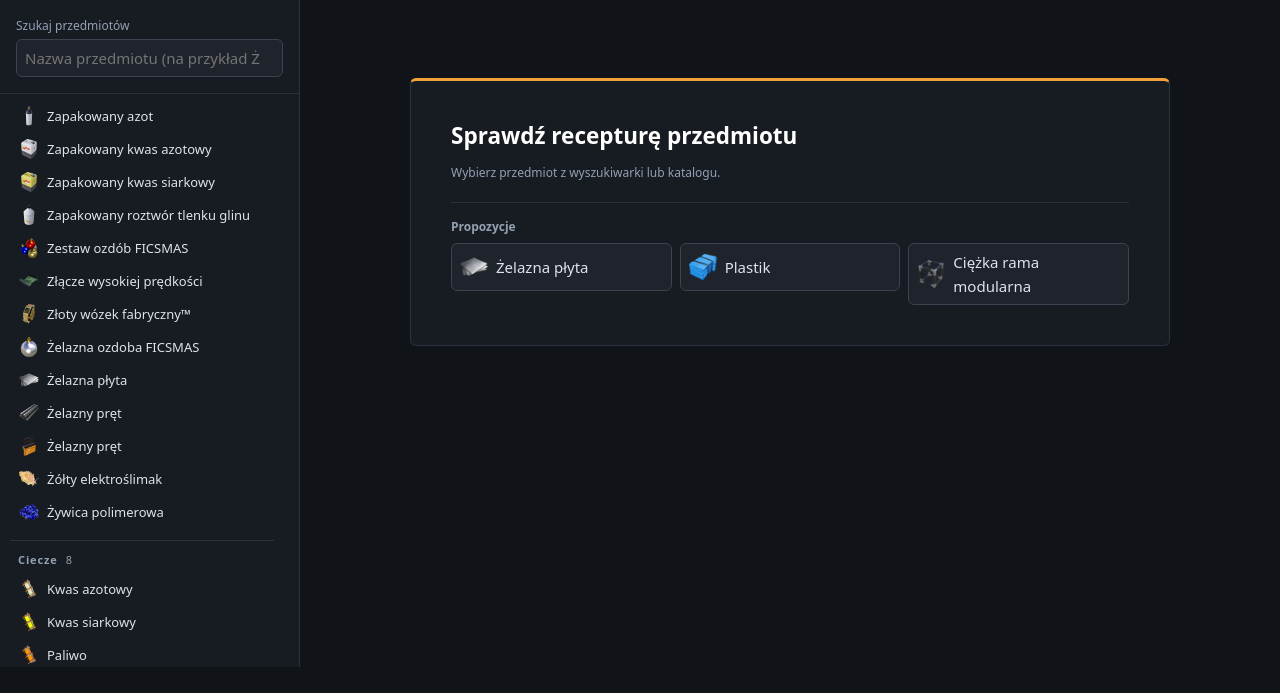
Test: レシピモードの詳細ヘッダー › pl: 「アイテムページを開く」リンクを出す（一覧のクリック挙動は変えない）
(page scrolled)
What coordinates should you click on to do the following:
click the 2nd button "Żelazna płyta"
I would click on:
 (87, 380)
Its box is [10, 364, 274, 396].
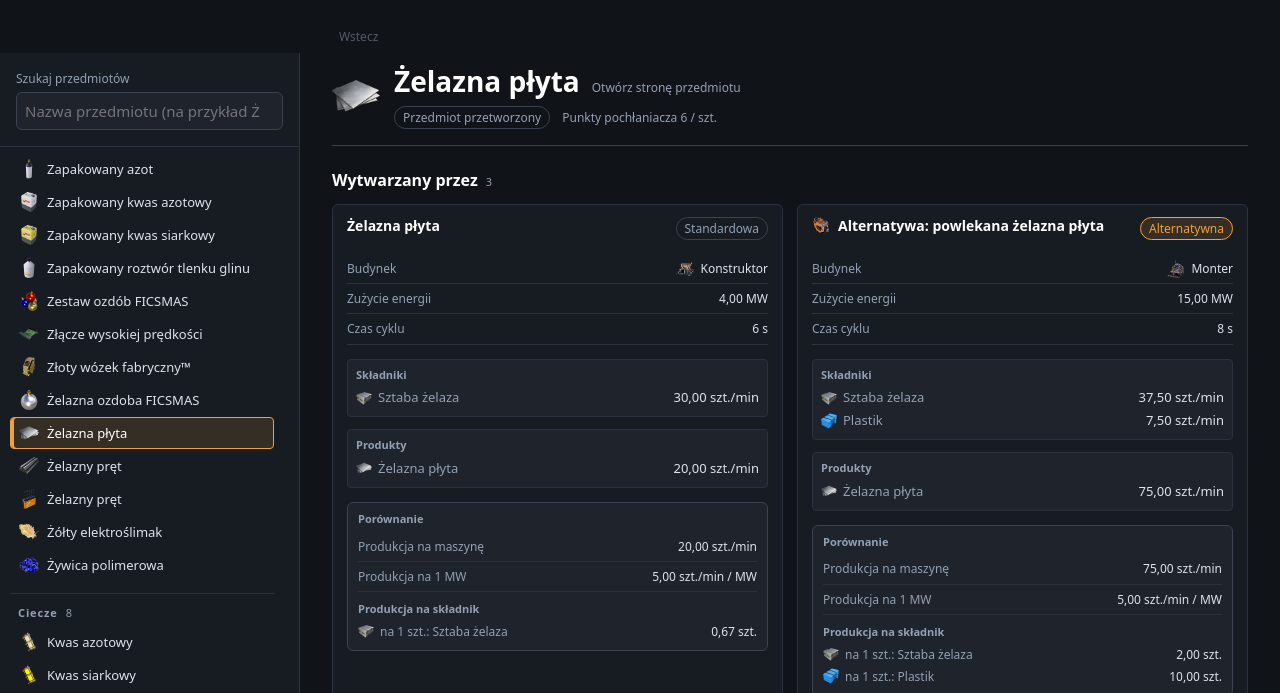
Check: the link with class "recipe-browser__item-page-link" reads "Otwórz stronę przedmiotu", box [592, 78, 741, 97]
